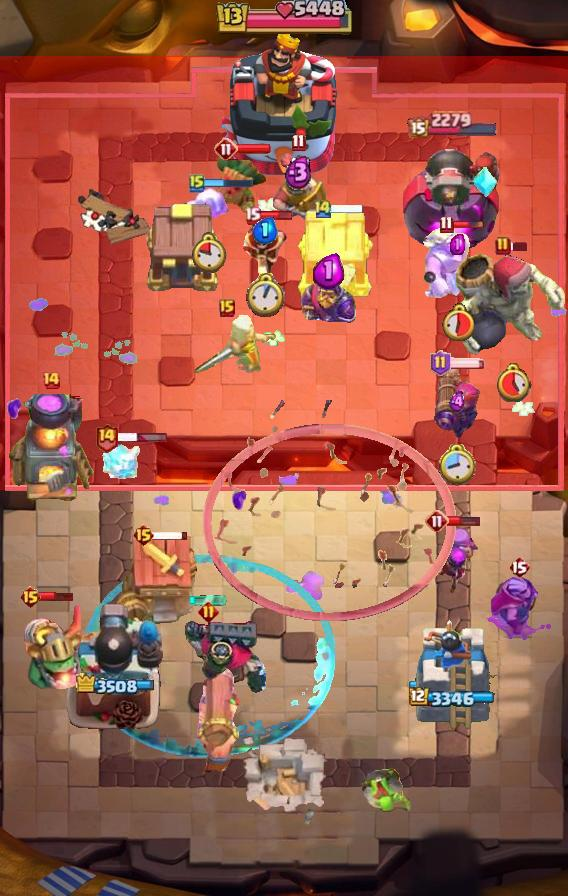bar-level: (361, 767, 415, 815)
bat: (100, 442, 142, 484)
battle-healer: (195, 661, 243, 775)
bomb: (141, 200, 221, 294), (295, 205, 375, 299)
clock: (213, 0, 355, 38)
earthquake: (270, 151, 326, 227)
electro-giant: (452, 251, 568, 361)
electro-spirit: (313, 253, 343, 289), (284, 154, 312, 190), (254, 216, 279, 243), (449, 391, 467, 413), (451, 233, 465, 254)
elixir: (247, 273, 286, 318), (438, 444, 476, 487), (494, 362, 532, 402), (192, 231, 227, 273), (441, 303, 475, 341)
emote: (202, 177, 254, 189), (116, 432, 168, 443), (448, 357, 486, 369), (236, 143, 272, 155), (152, 530, 189, 541), (447, 515, 480, 527), (39, 591, 75, 602), (258, 210, 293, 221), (331, 204, 365, 214), (451, 220, 485, 230), (509, 241, 529, 252)
firecracker-evolution: (300, 275, 356, 324)
goblin-barrel: (212, 152, 268, 216)
goblin-hut: (418, 221, 496, 303)
hunter: (7, 394, 95, 504)
ice-spirit: (188, 594, 228, 606)
inferno-tower: (150, 617, 266, 701)
king-tower: (222, 31, 346, 181)
lumberjack: (239, 220, 291, 274)
mega-minion: (433, 365, 481, 441)
mirror: (184, 188, 234, 226)
night-witch: (4, 599, 86, 693)
pad_0: (81, 555, 335, 761)
pad_2: (472, 166, 498, 198)
poison: (193, 305, 287, 377)
queen-tower: (409, 616, 497, 731)
rascal-girl: (426, 526, 480, 596)
selected: (407, 110, 499, 138), (409, 687, 497, 709), (74, 672, 154, 696)
skeleton-barrel: (203, 401, 457, 624)
skeleton-king: (482, 574, 556, 644)
sparky: (117, 535, 203, 633)
text: (94, 422, 119, 453), (214, 137, 238, 161), (425, 509, 449, 533), (132, 523, 155, 547), (19, 585, 42, 609), (430, 350, 451, 376), (508, 555, 530, 579), (197, 602, 218, 623), (313, 197, 333, 219), (41, 370, 61, 390), (243, 206, 261, 225), (189, 173, 205, 193), (495, 236, 511, 256), (219, 299, 235, 317), (438, 215, 453, 233), (291, 133, 305, 151)
tower-bar: (64, 601, 164, 731), (401, 138, 505, 256)
